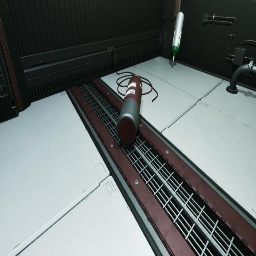0: (171, 12, 184, 65)
NitrogenTank ,: (117, 74, 142, 146)
